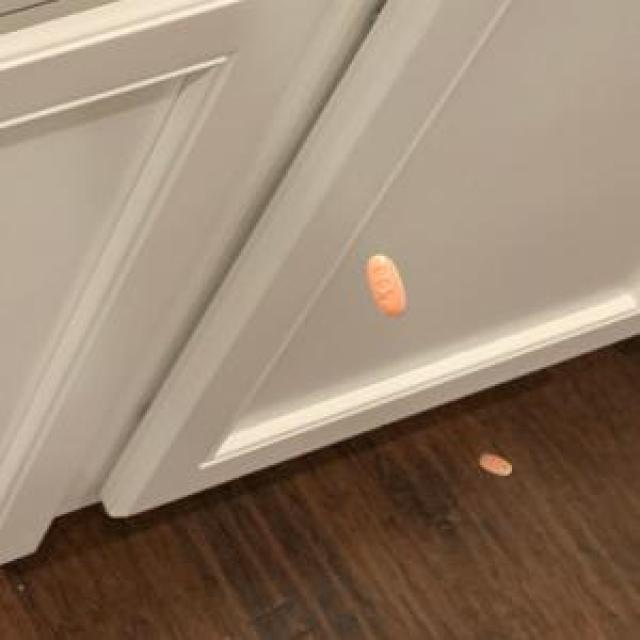Biogesic: (342, 236, 418, 330), (470, 437, 524, 484)
